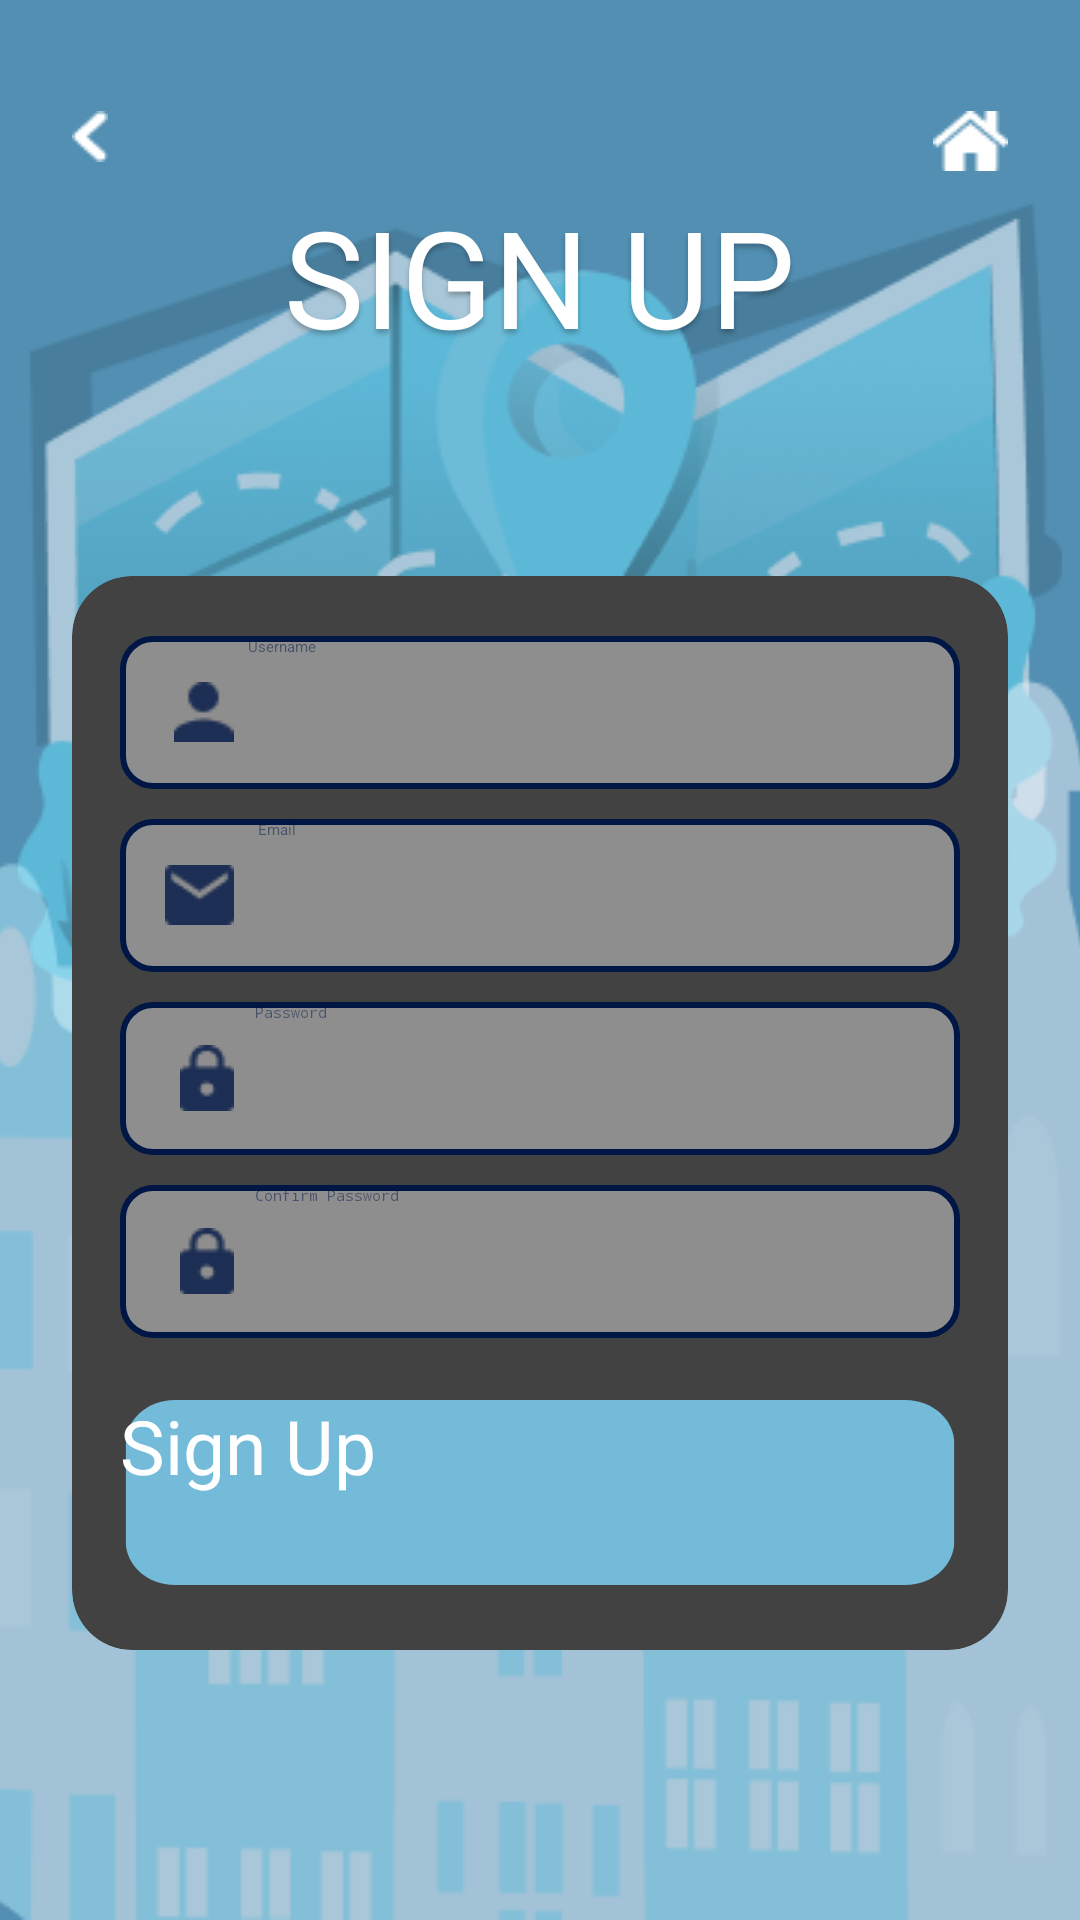

Screen size 1080px x 1920px. Icon name, then its box in pixels as (x1, y1, x2, y2):
back: (72, 111, 108, 162)
home: (933, 111, 1008, 171)
lock: (180, 1045, 234, 1111), (180, 1228, 234, 1294)
